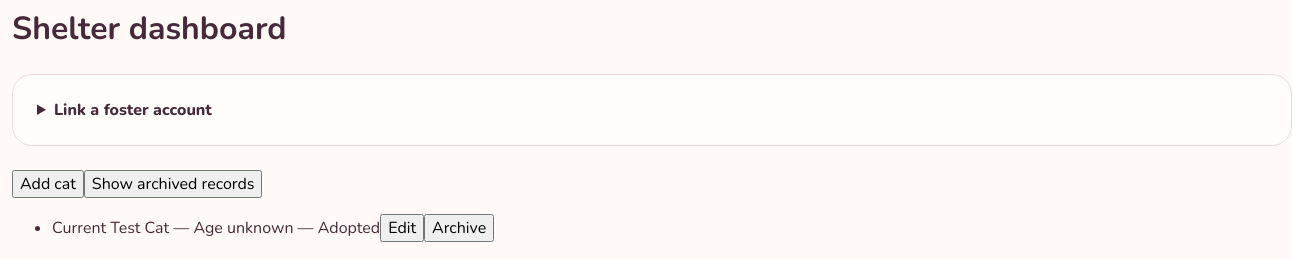
Scenario: shelter cat records › shows unavailable current cats and provides access to archived cats separately
Expected: the button with aria-label "Archive Current Test Cat" is shown, [424,214,494,242]
Expected: the list item shows "Current Test Cat — Age unknown — Adopted", [52,214,494,242]
Click the button "Show archived records": [173, 184] box [84,170,262,198]
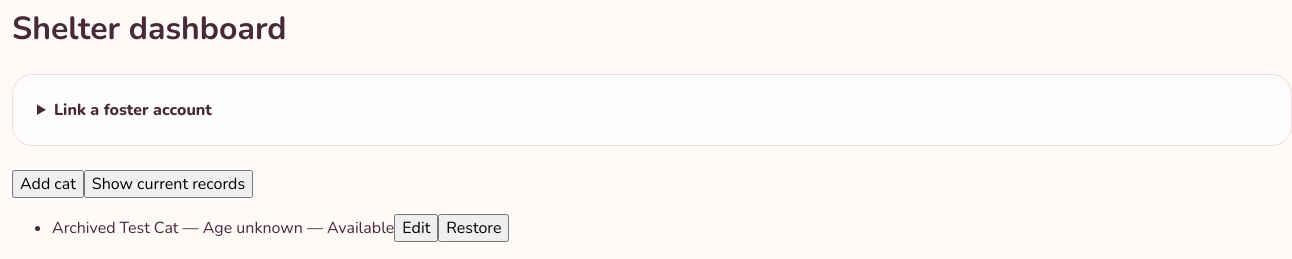
Now the list item shows "Archived Test Cat", box [52,217,178,239]
